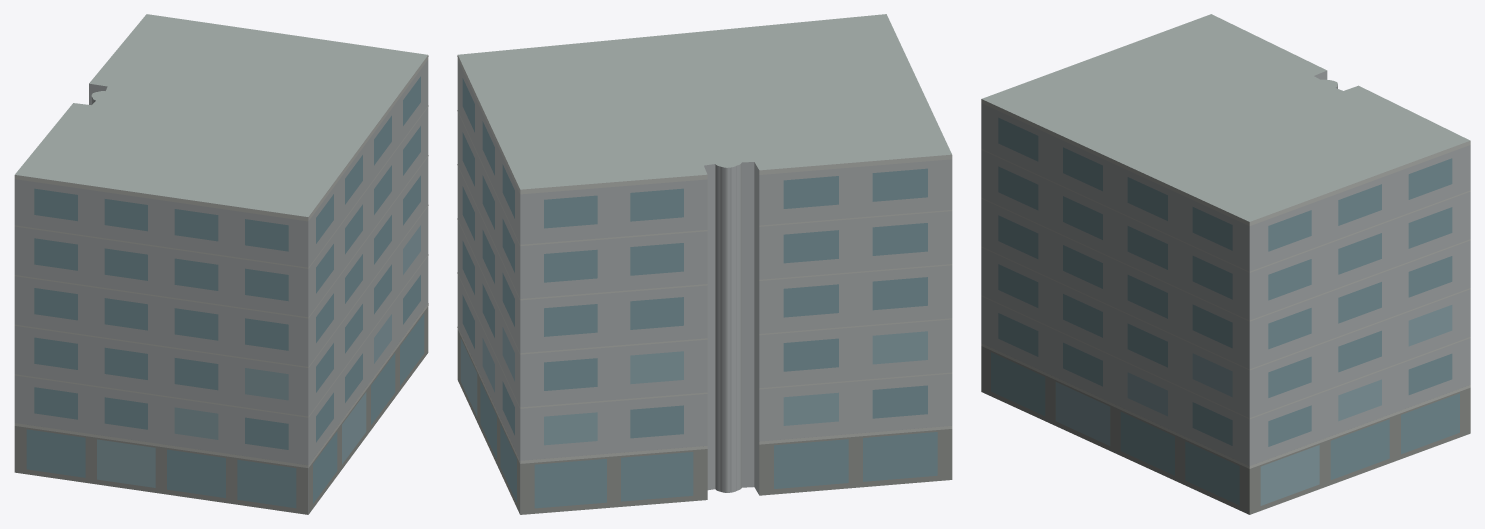
The model's file is survey-upis-32964447.glb.
3 renders of one model, left to right at view 1: azimuth 30°, elevation 25°; view 2: azimuth 150°, elevation 25°; view 3: azimuth 270°, elevation 25°, orthographic. The views are drawn at different scales.
Parts seen in each view (by area): view 1: survey-upis-32964447.tmp; view 2: survey-upis-32964447.tmp; view 3: survey-upis-32964447.tmp.
Part boxes in pixels (x1=…): survey-upis-32964447.tmp: x1=14, y1=14, x2=428, y2=514; survey-upis-32964447.tmp: x1=457, y1=14, x2=952, y2=514; survey-upis-32964447.tmp: x1=981, y1=14, x2=1470, y2=514.
Size of the model in its own units: 25.6 by 16.8 by 25.45.
